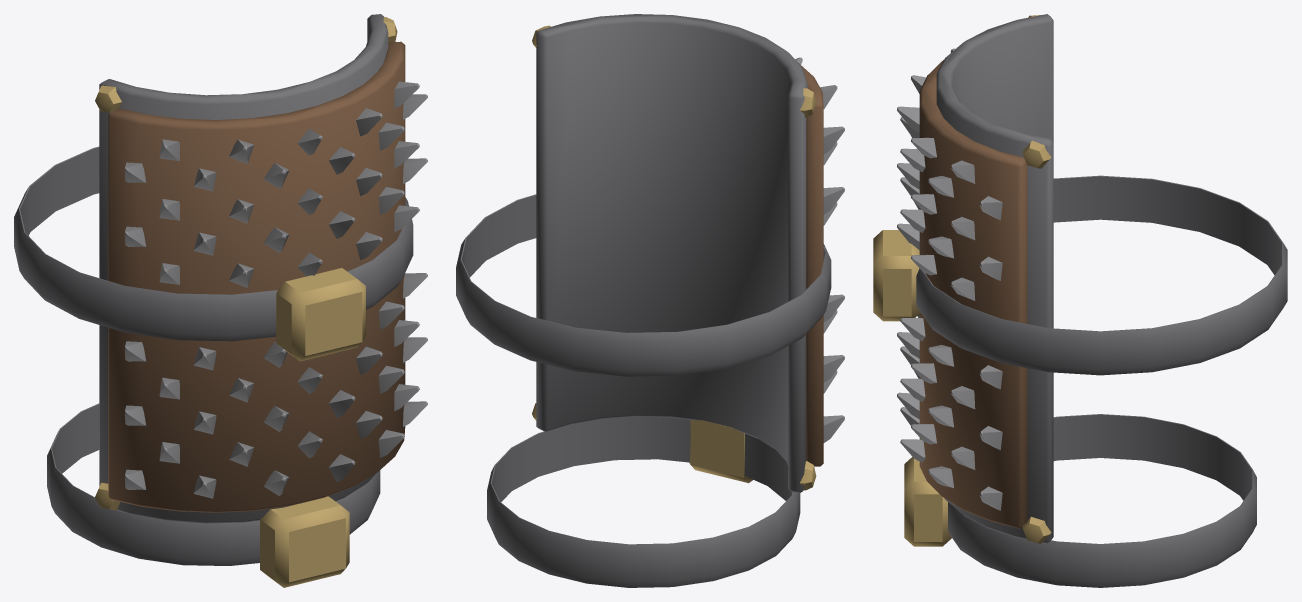
File: Kit_Mod_Grinder.glb
The picture shows the model from 3 angles, left to right: view 1: azimuth 30°, elevation 25°; view 2: azimuth 150°, elevation 25°; view 3: azimuth 270°, elevation 25°; orthographic projection. The views are drawn at different scales.
Visible parts, largest first — view 1: Kit_Mod_Grinder; view 2: Kit_Mod_Grinder; view 3: Kit_Mod_Grinder.
Part boxes in pixels (<box>): Kit_Mod_Grinder: <box>14,14,427,587</box>; Kit_Mod_Grinder: <box>456,14,844,587</box>; Kit_Mod_Grinder: <box>873,14,1287,587</box>.
Size of the model in its own units: 0.158 by 0.21 by 0.1732.
